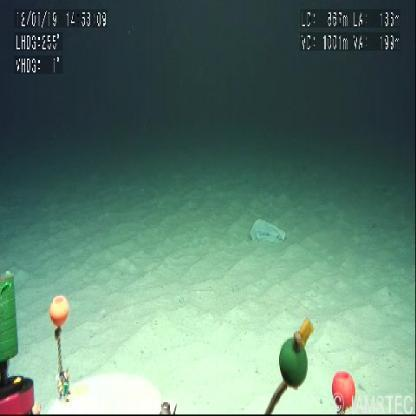Rác: (250, 219, 286, 245)
